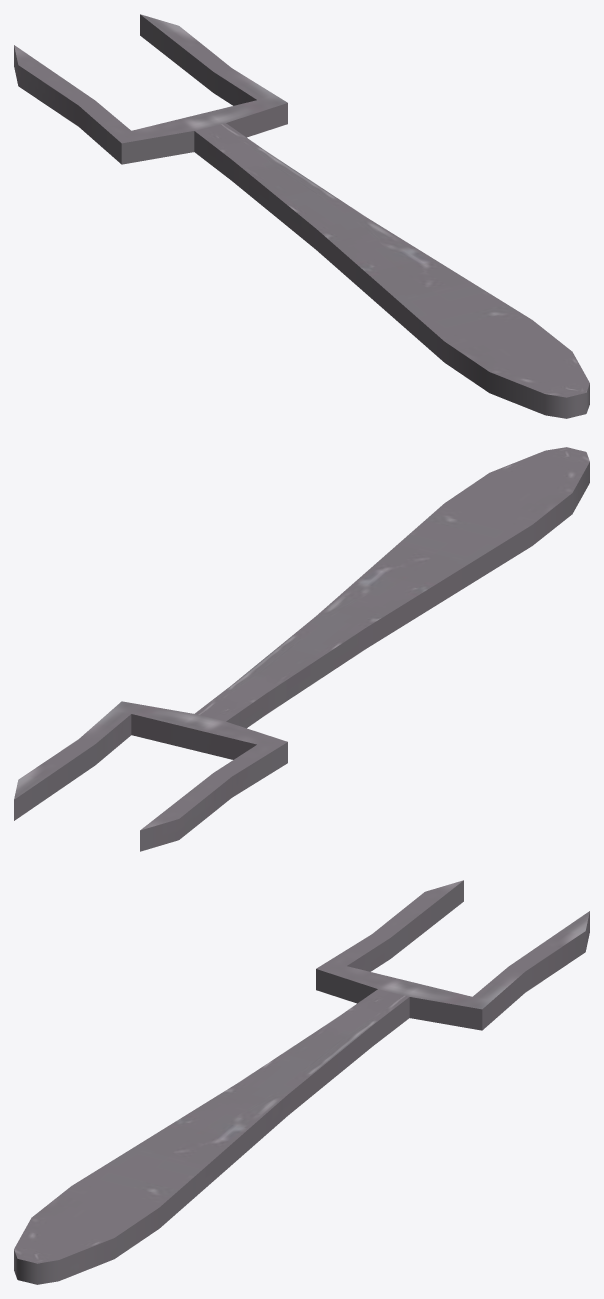
The model's file is Table_Fork.gltf.
3 renders of one model, top to bottom at view 1: azimuth 30°, elevation 25°; view 2: azimuth 150°, elevation 25°; view 3: azimuth 330°, elevation 25°, orthographic.
Parts seen in each view (by area): view 1: Table_Fork; view 2: Table_Fork; view 3: Table_Fork.
Boxes of the visible parts, box(x1,y1,x2,y2) form: Table_Fork: box(14, 14, 589, 418); Table_Fork: box(14, 447, 589, 851); Table_Fork: box(14, 880, 589, 1284).
Bounding box in the file's own units: 0.0505 × 0.00616 × 0.2626.
1 material, 1 textured.
